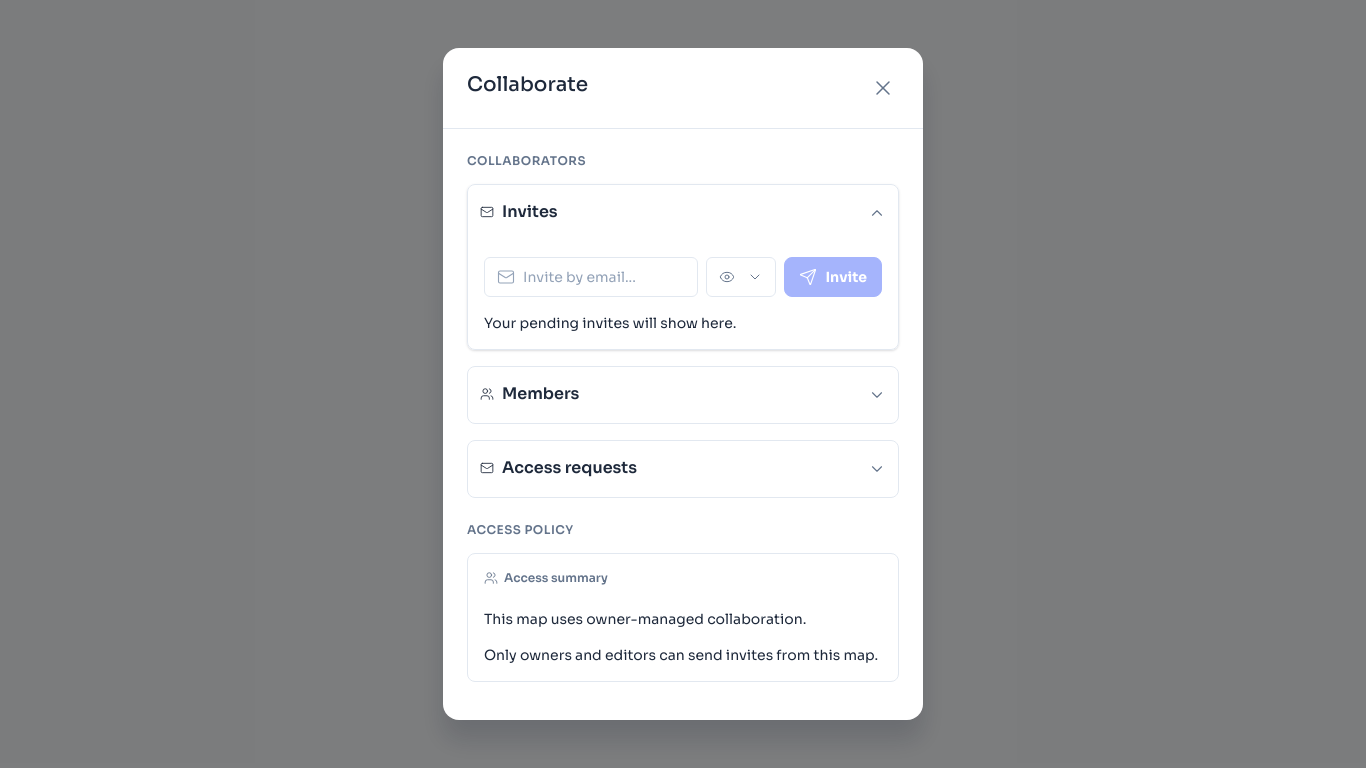
Scenario: ShareModal › collaboration invite row uses an icon role menu and requires a valid invite email
Check: the button does not show "Viewer"
Check: the button "Invite" is disabled, box top-left (784, 257), bottom-right (882, 297)
Click the button named "Invite role: Viewer" at (742, 277), box top-left (706, 257), bottom-right (776, 297)
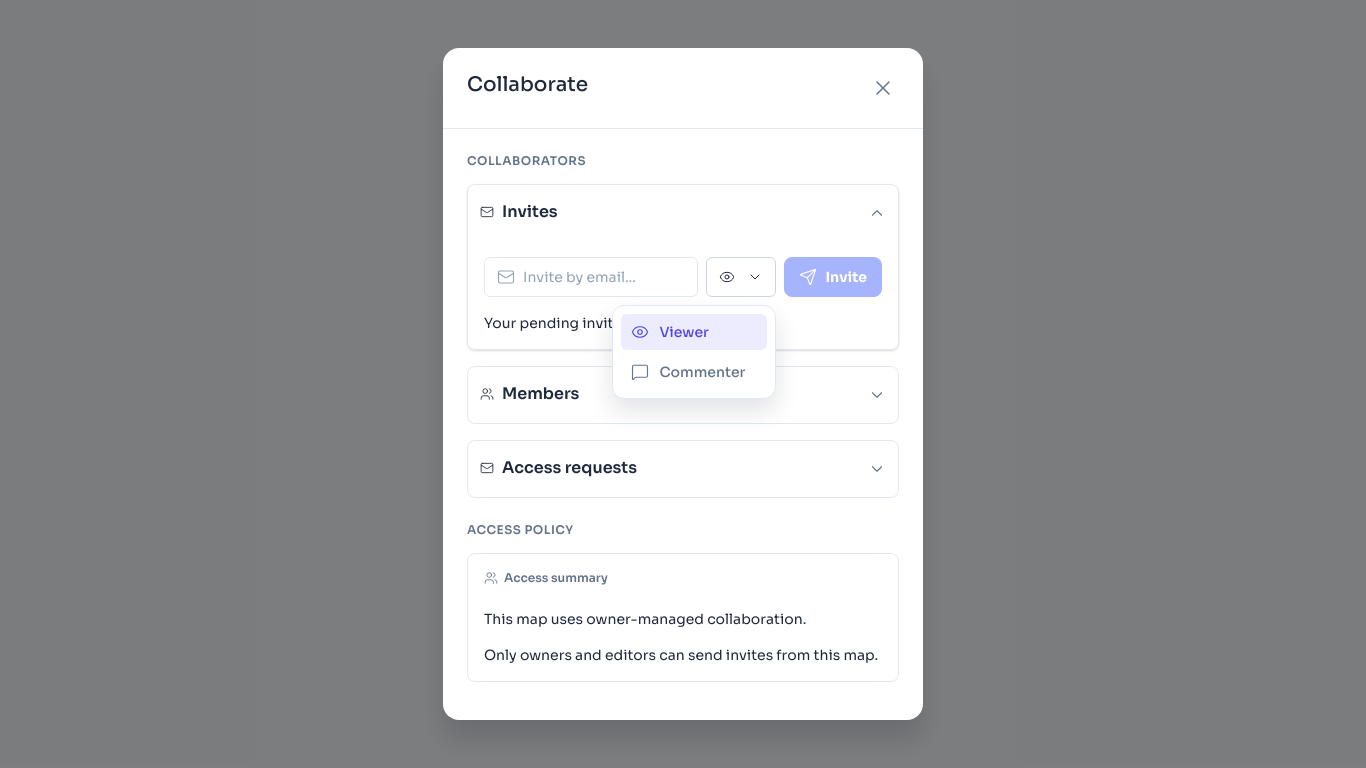
Check: the menu item with class "share-collab-role-menu-item" showing "Commenter" is shown
Click the menu item with class "share-collab-role-menu-item" showing "Commenter" at (694, 372), box top-left (622, 354), bottom-right (768, 390)
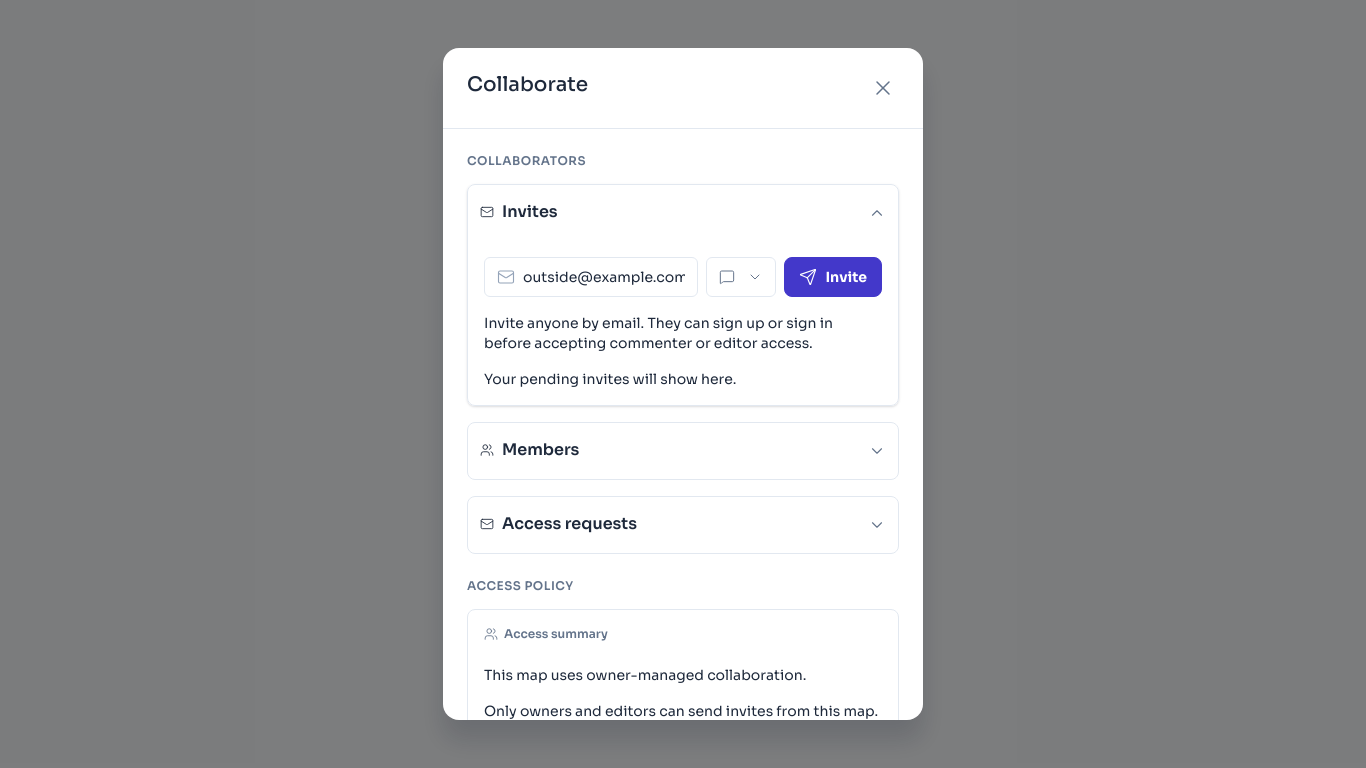
Check: the button "Invite" is enabled, box top-left (784, 257), bottom-right (882, 297)
Check: the text "Invite anyone by email." is shown, box top-left (484, 314), bottom-right (833, 352)
